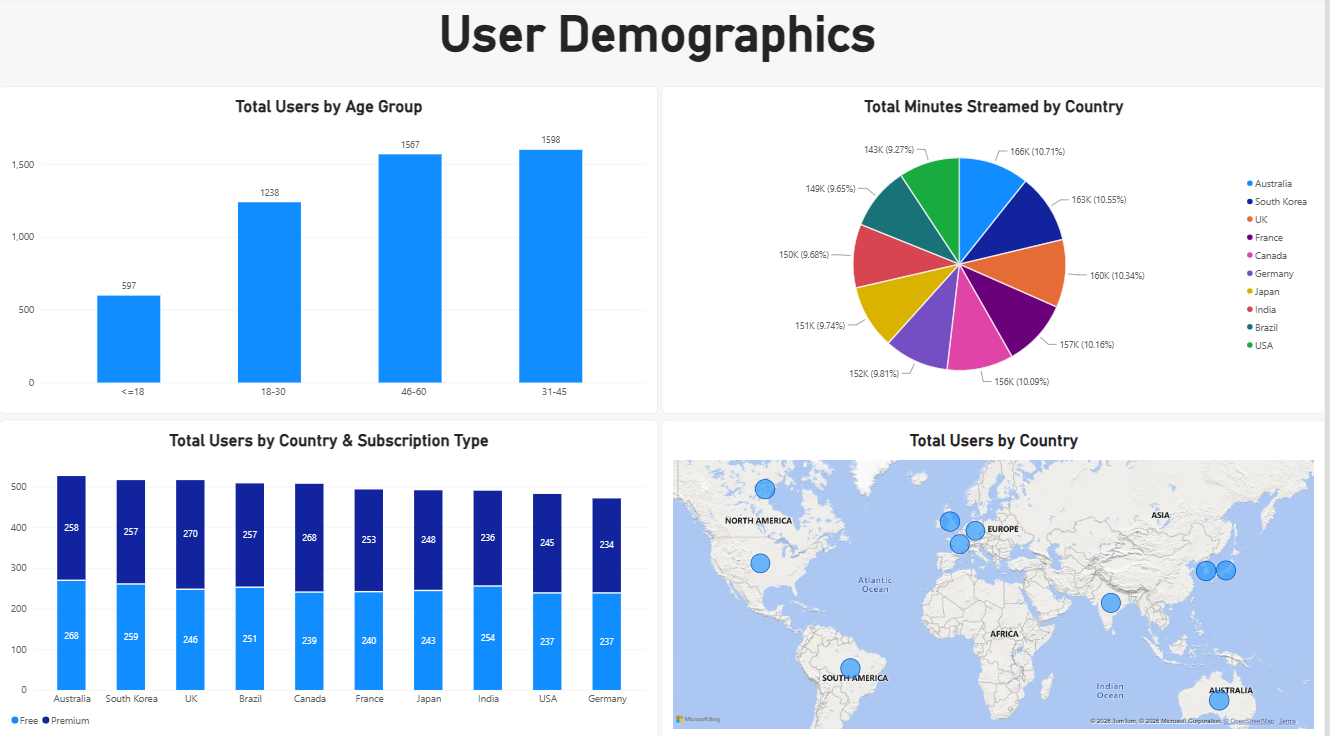

Layout of this report page (visuals, bound fields, positions):
{"tool":"powerbi","page":{"name":"User Demographics","canvas":[1920,1080],"ordinal":1},"visuals":[{"type":"textbox","box":[10.9,12.7,1885.7,101.3],"z":0},{"type":"columnChart","title":"Total Users by Age Group","fields":{"Y":["CountNonNull(Global_Music_Streaming_Listener_Preferences.User_ID)"],"Category":["Global_Music_Streaming_Listener_Preferences.Age_Group"]},"box":[0,130.3,953.7,474.1],"z":1000},{"type":"pieChart","title":"Total Minutes Streamed by Country","fields":{"Category":["Global_Music_Streaming_Listener_Preferences.Country"],"Y":["Sum(Global_Music_Streaming_Listener_Preferences.Minutes Streamed Per Day)"]},"box":[959.1,130.3,960.9,474.1],"z":2000},{"type":"columnChart","title":"Total Users by Country & Subscription Type","fields":{"Category":["Global_Music_Streaming_Listener_Preferences.Country"],"Y":["CountNonNull(Global_Music_Streaming_Listener_Preferences.User_ID)"],"Series":["Global_Music_Streaming_Listener_Preferences.Subscription Type"]},"box":[0,613.5,954,466],"z":3000},{"type":"map","title":"Total Users by Country","fields":{"Category":["Global_Music_Streaming_Listener_Preferences.Country"],"Size":["CountNonNull(Global_Music_Streaming_Listener_Preferences.User_ID)"]},"box":[959.1,613.5,960.9,465.1],"z":4000}]}

Visuals, with their boxes in screenshot pixels (x1, y1, x2, y2), scaled from the page's 1920x1080 canvas onto the 1330x736 screenshot:
textbox: region(8, 9, 1314, 78)
"Total Users by Age Group" columnChart: region(0, 89, 661, 412)
"Total Minutes Streamed by Country" pieChart: region(664, 89, 1329, 412)
"Total Users by Country & Subscription Type" columnChart: region(0, 418, 661, 735)
"Total Users by Country" map: region(664, 418, 1329, 735)
